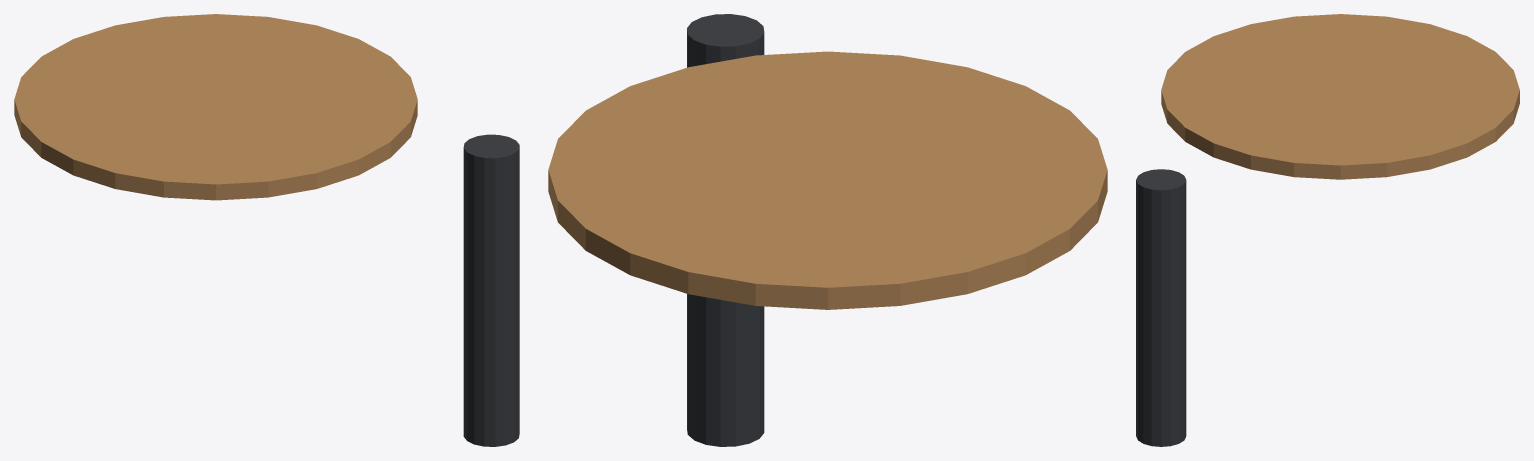
File: table_4top_round_36.glb
3 renders of one model, left to right at view 1: azimuth 30°, elevation 25°; view 2: azimuth 150°, elevation 25°; view 3: azimuth 270°, elevation 25°, orthographic. The views are drawn at different scales.
Bounding box in the file's own units: 0.9784 × 0.762 × 0.9784.
